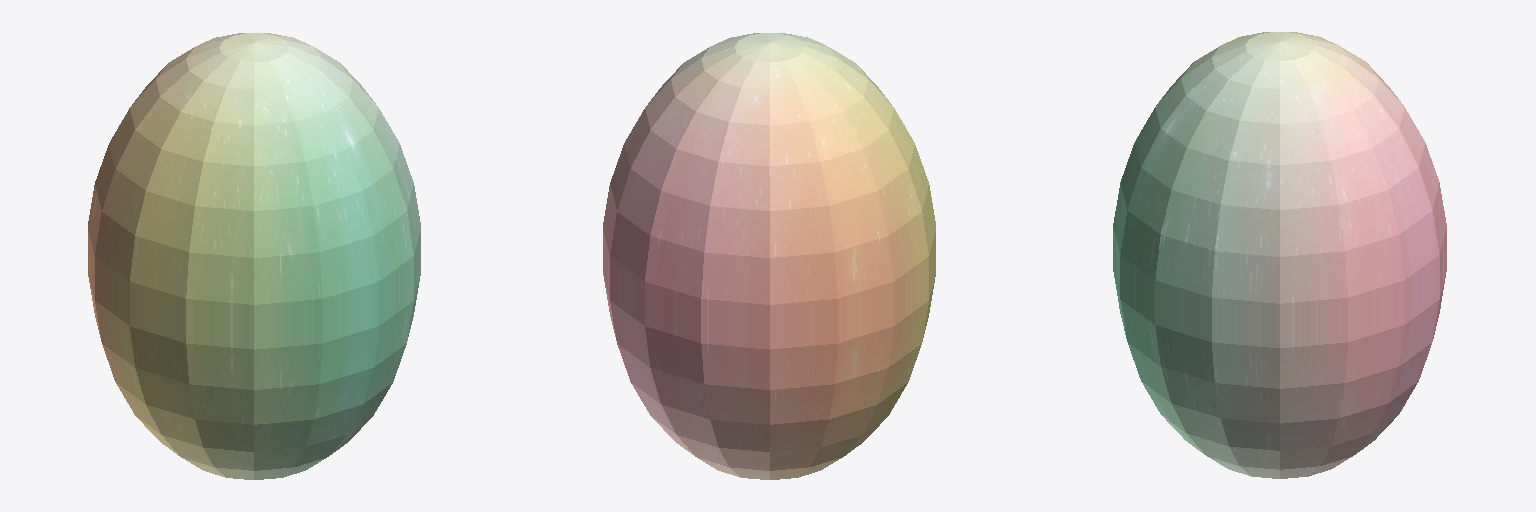
3 renders of one model, left to right at view 1: azimuth 30°, elevation 25°; view 2: azimuth 150°, elevation 25°; view 3: azimuth 270°, elevation 25°, orthographic.
Parts seen in each view (by area): view 1: Sphere; view 2: Sphere; view 3: Sphere.
Part boxes in pixels (x1,y1,x2,y2): Sphere: (88,33,420,479); Sphere: (603,33,935,479); Sphere: (1113,32,1446,478).
Size of the model in its own units: 0.9837 by 1.4 by 0.989.
Materials: 1 (1 with a texture image).